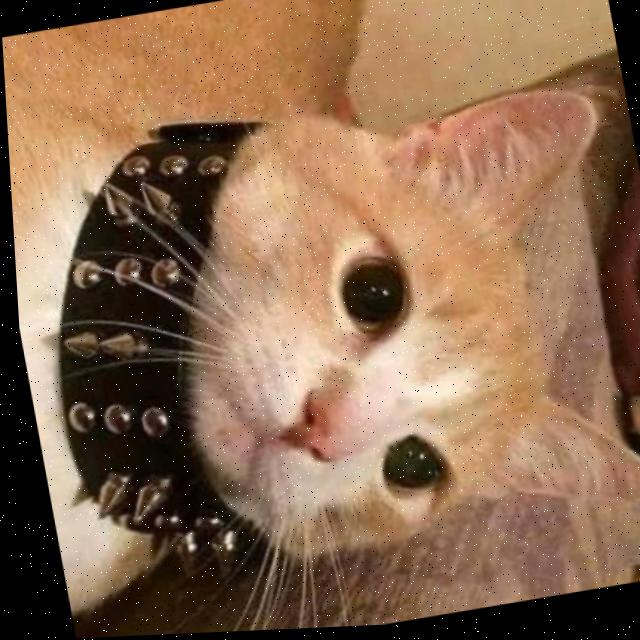Cats: (2, 22, 640, 625)
